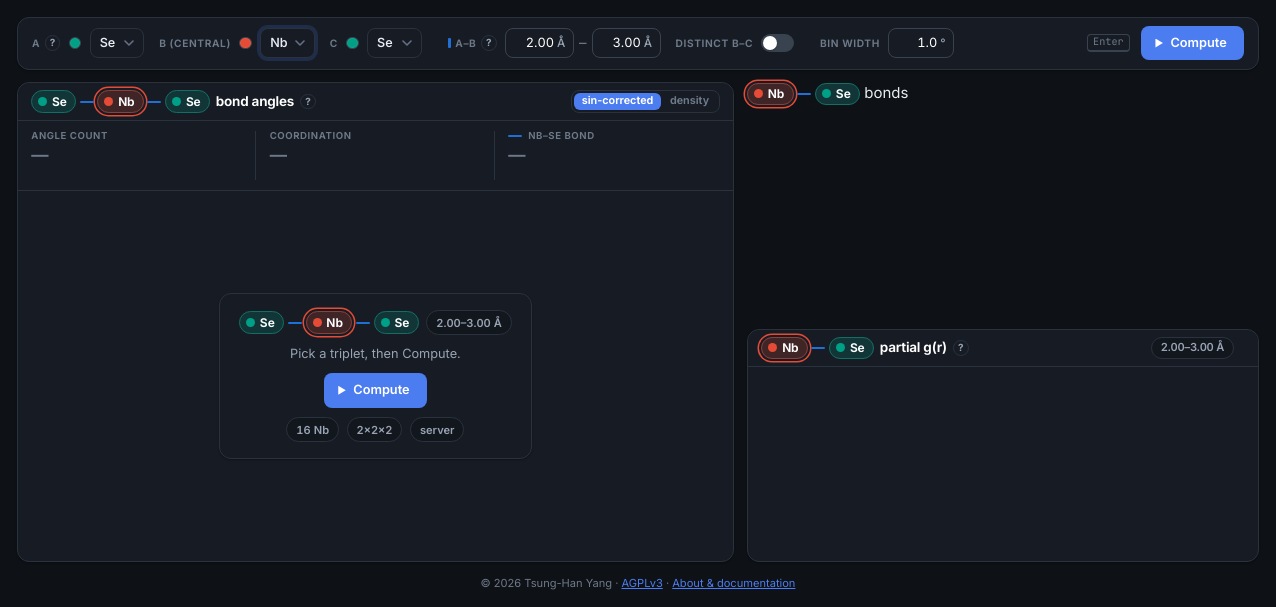
Test: BondGeometryPage presentation (Phase 1) › a result with no angles keeps the empty axis and says so, instead of a zero curve
Select "Ga" in the dropdown named "End element A": (117, 43) [90,28,144,58]
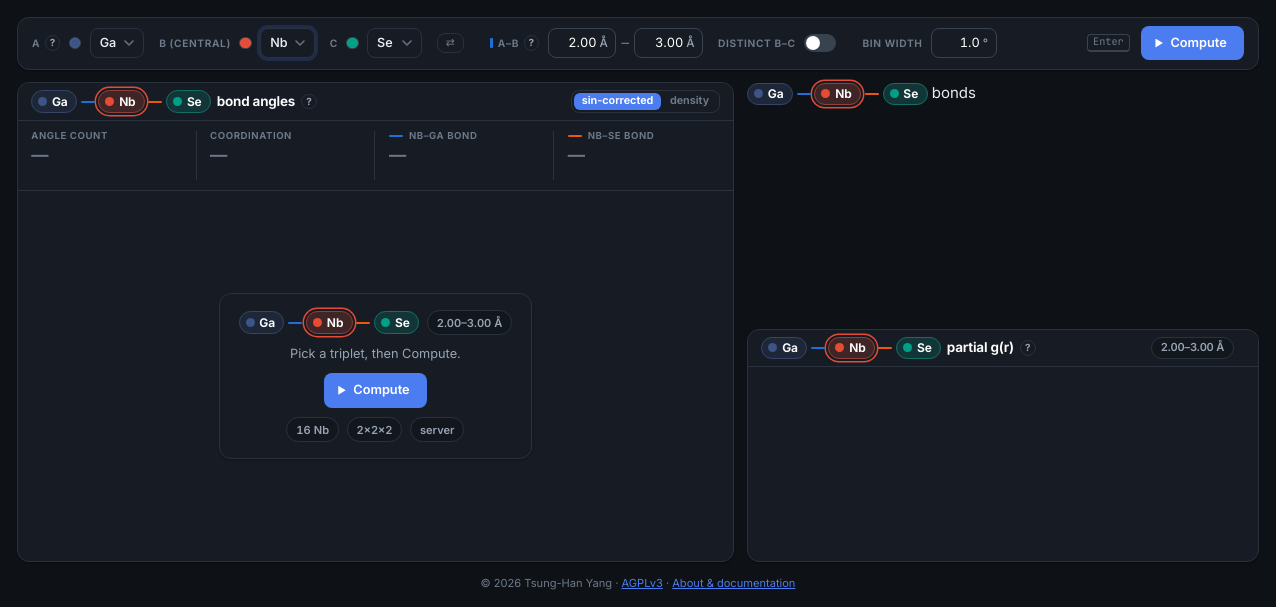
Submit the form, box [17,16,1259,70]
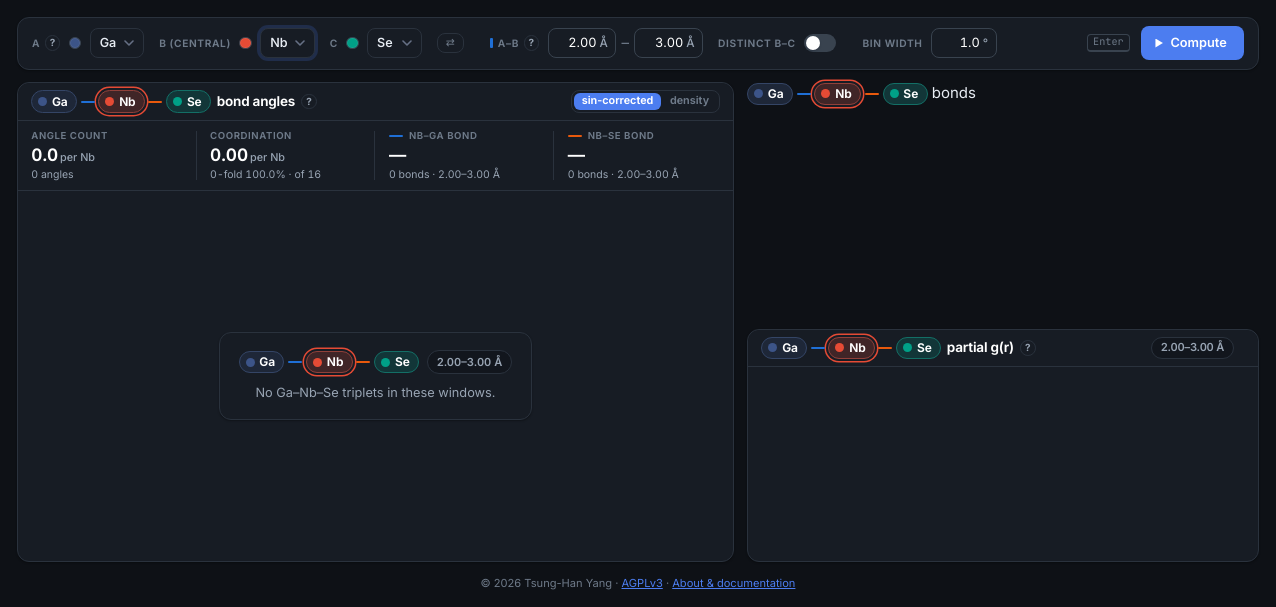
Expected: the text with class "ui-chip" below "0-fold 100.0% · of 16" reads "2.00–3.00 Å", [437,355,502,369]
Now the text "No Ga–Nb–Se triplets in these windows." is shown, box [255,384,495,403]
Submit the form, box [17,16,1259,70]
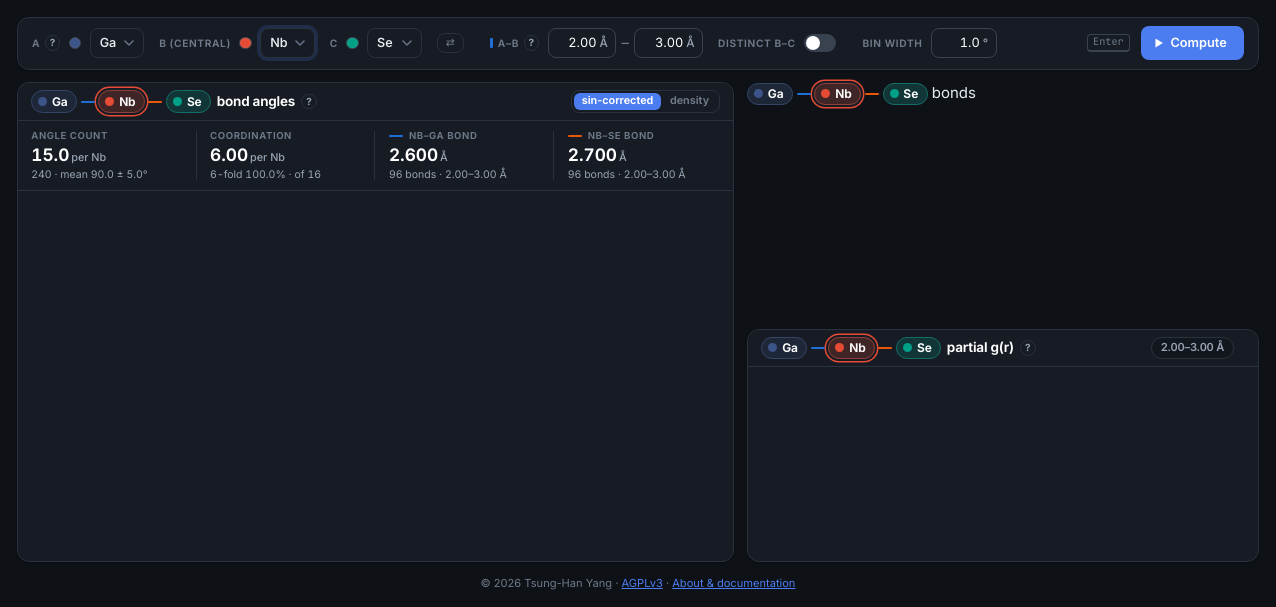
Now the element with class "ui-prompt" is gone
